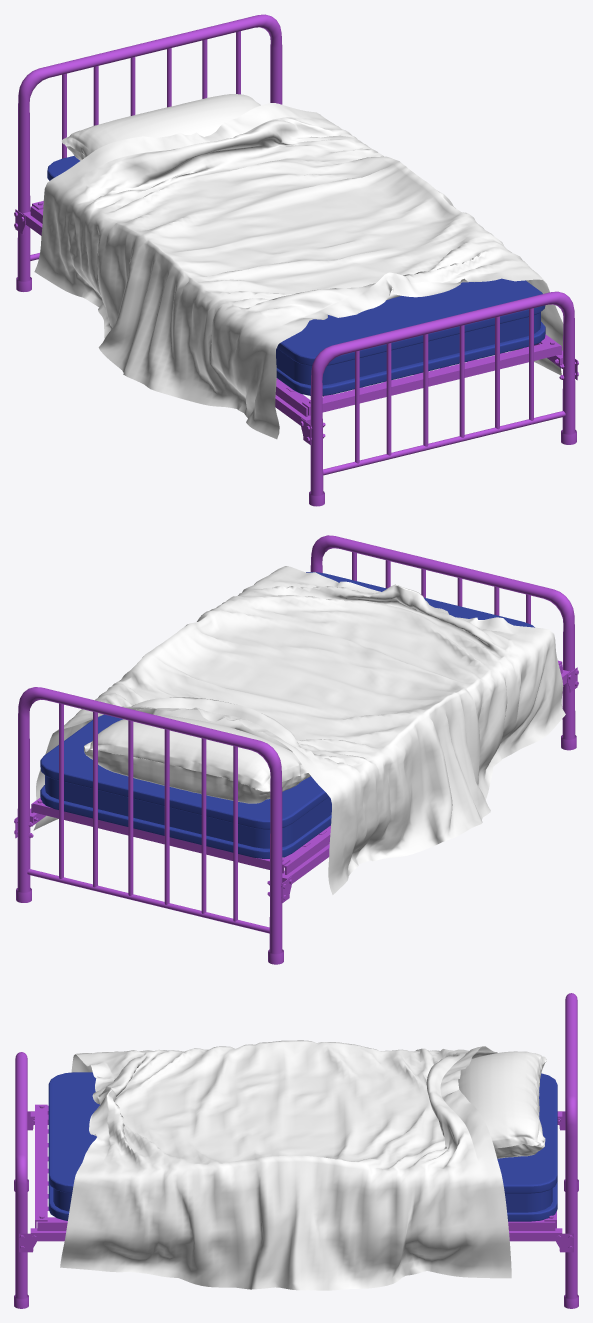
File: cama.fbx
3 renders of one model, top to bottom at view 1: azimuth 30°, elevation 25°; view 2: azimuth 150°, elevation 25°; view 3: azimuth 270°, elevation 25°, orthographic. The views are drawn at different scales.
Visible parts, largest first — view 1: sabanas, cama, colchon, almoahada; view 2: sabanas, cama, colchon, almoahada; view 3: sabanas, cama, colchon, almoahada.
Part boxes in pixels (x1=…): sabanas: x1=34, y1=103, x2=563, y2=439; cama: x1=14, y1=14, x2=578, y2=506; colchon: x1=47, y1=155, x2=545, y2=395; almoahada: x1=61, y1=94, x2=260, y2=160; sabanas: x1=33, y1=566, x2=565, y2=894; cama: x1=14, y1=535, x2=578, y2=964; colchon: x1=40, y1=572, x2=534, y2=858; almoahada: x1=84, y1=715, x2=310, y2=803; sabanas: x1=60, y1=1040, x2=511, y2=1290; cama: x1=14, y1=993, x2=578, y2=1308; colchon: x1=48, y1=1072, x2=557, y2=1221; almoahada: x1=458, y1=1051, x2=546, y2=1158.
Bounding box in the file's own units: 4.03 × 2.29 × 5.79.
